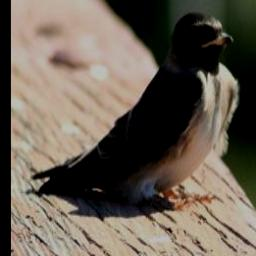Swallow: (27, 9, 240, 213)
